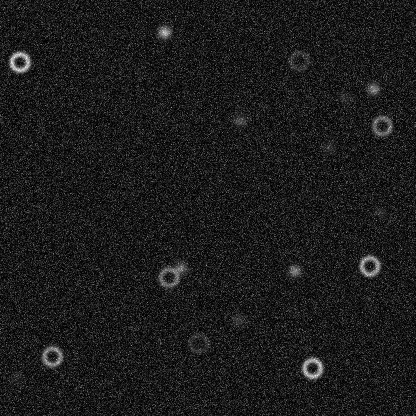Ring: (369, 113, 393, 137), (156, 265, 180, 289), (300, 356, 324, 380), (7, 49, 31, 73), (286, 48, 310, 72), (40, 344, 64, 368), (186, 331, 210, 355), (357, 253, 381, 277)
Spot: (231, 112, 247, 128), (286, 262, 302, 278), (320, 139, 336, 155), (365, 80, 381, 96), (172, 259, 188, 275), (230, 312, 246, 328), (9, 368, 25, 384), (371, 204, 387, 220), (156, 24, 172, 40), (336, 89, 352, 105)
